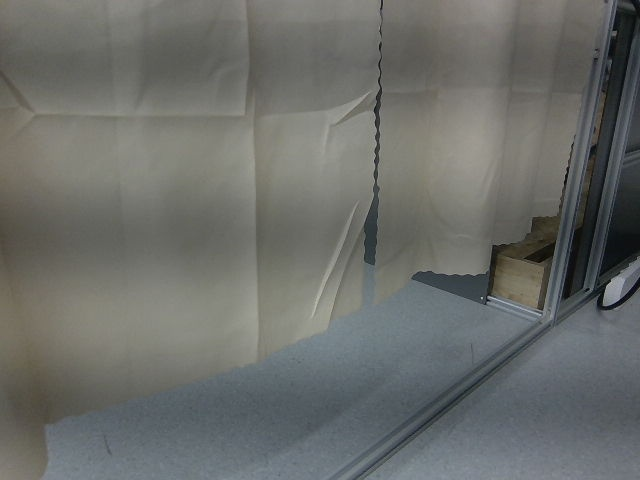curtain: (0, 0, 595, 394)
